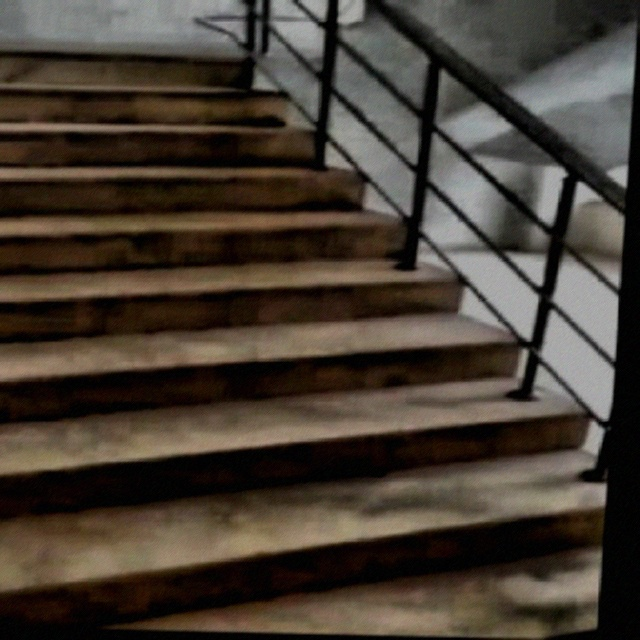stair: (1, 50, 637, 639)
